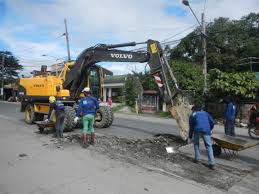excavator: (18, 40, 193, 146)
